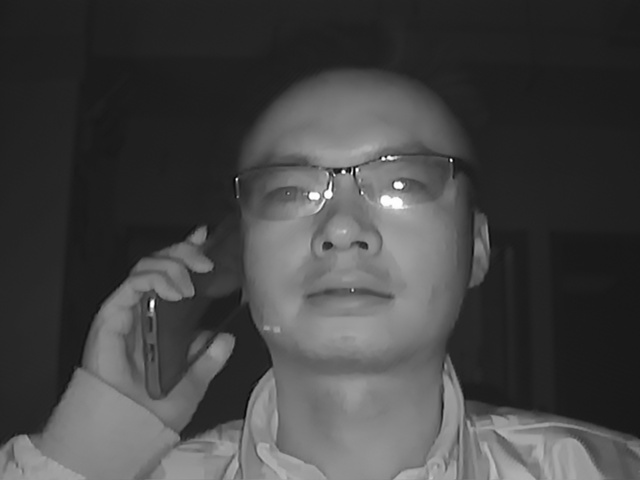hand: (92, 224, 237, 411)
